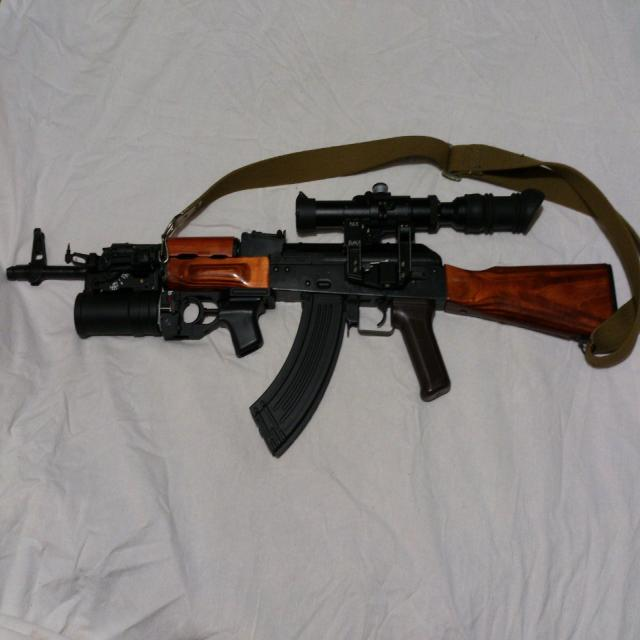firearm: (8, 183, 621, 458)
